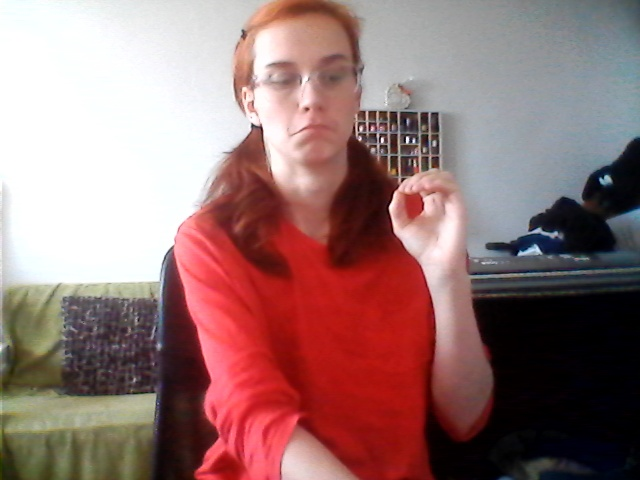o: (378, 164, 482, 269)
